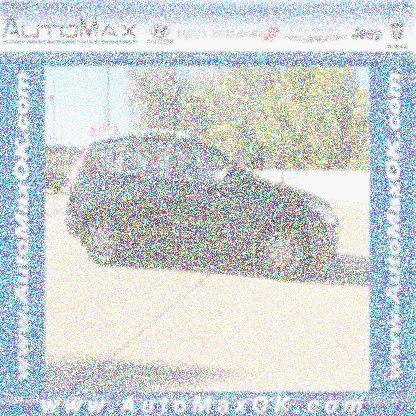Vehicle: (64, 131, 341, 282)
